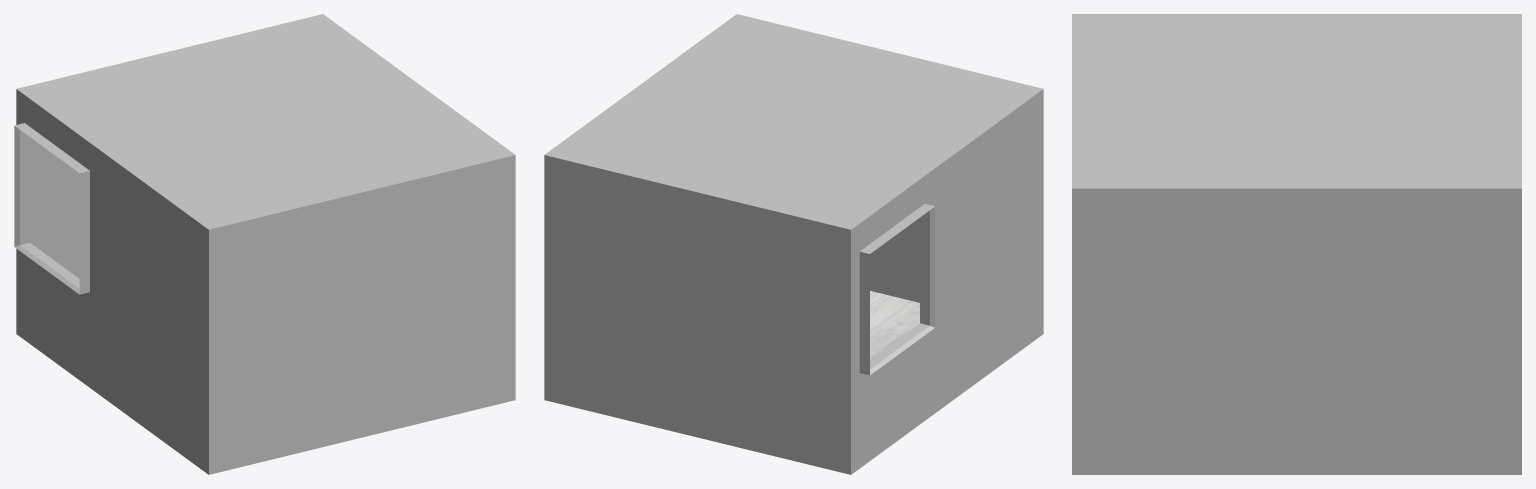
Rendered from room.glb.
The picture shows the model from 3 angles, left to right: view 1: azimuth 30°, elevation 25°; view 2: azimuth 150°, elevation 25°; view 3: azimuth 270°, elevation 25°; orthographic projection. The views are drawn at different scales.
Parts seen in each view (by area): view 1: room; view 2: room; view 3: room.
Part boxes in pixels (x1,y1,x2,y2): room: (14, 14, 515, 474); room: (544, 14, 1043, 474); room: (1072, 14, 1521, 474).
Size of the model in its own units: 2.84 by 2.1 by 2.99.
2 materials, 1 textured.
